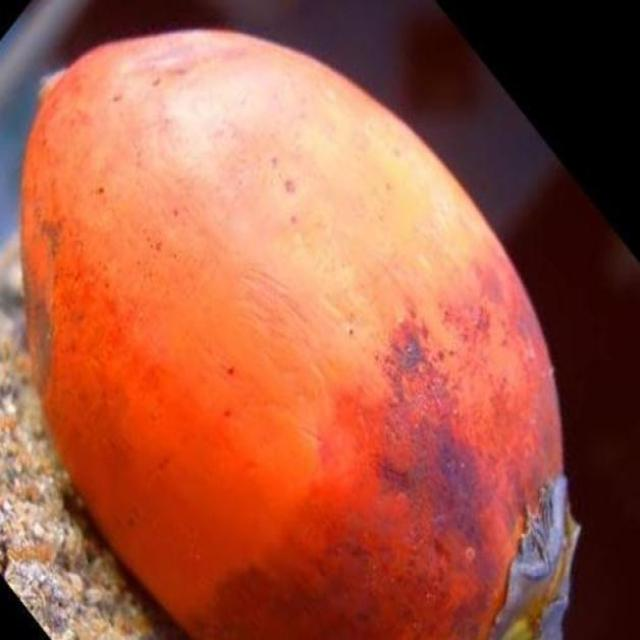good: (18, 29, 581, 639)
